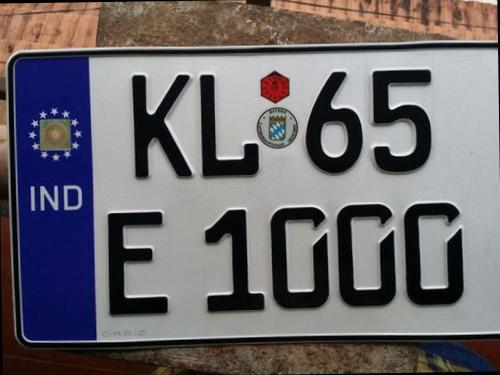plate: (20, 46, 500, 365)
